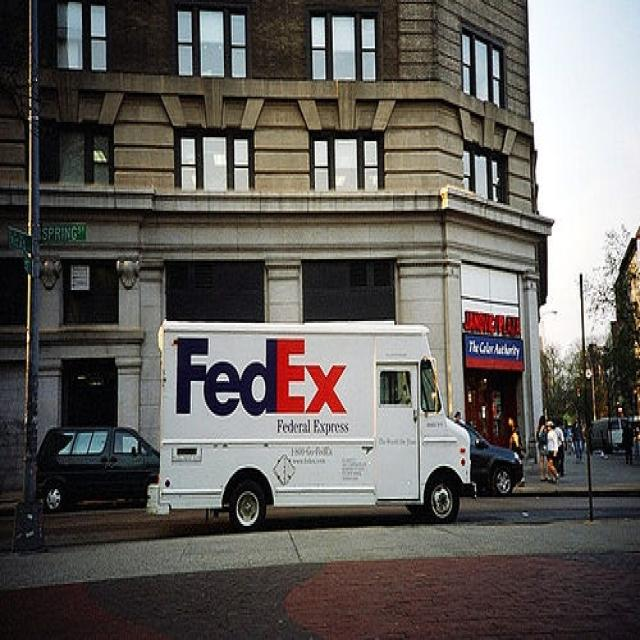fedex: (170, 336, 361, 421)
